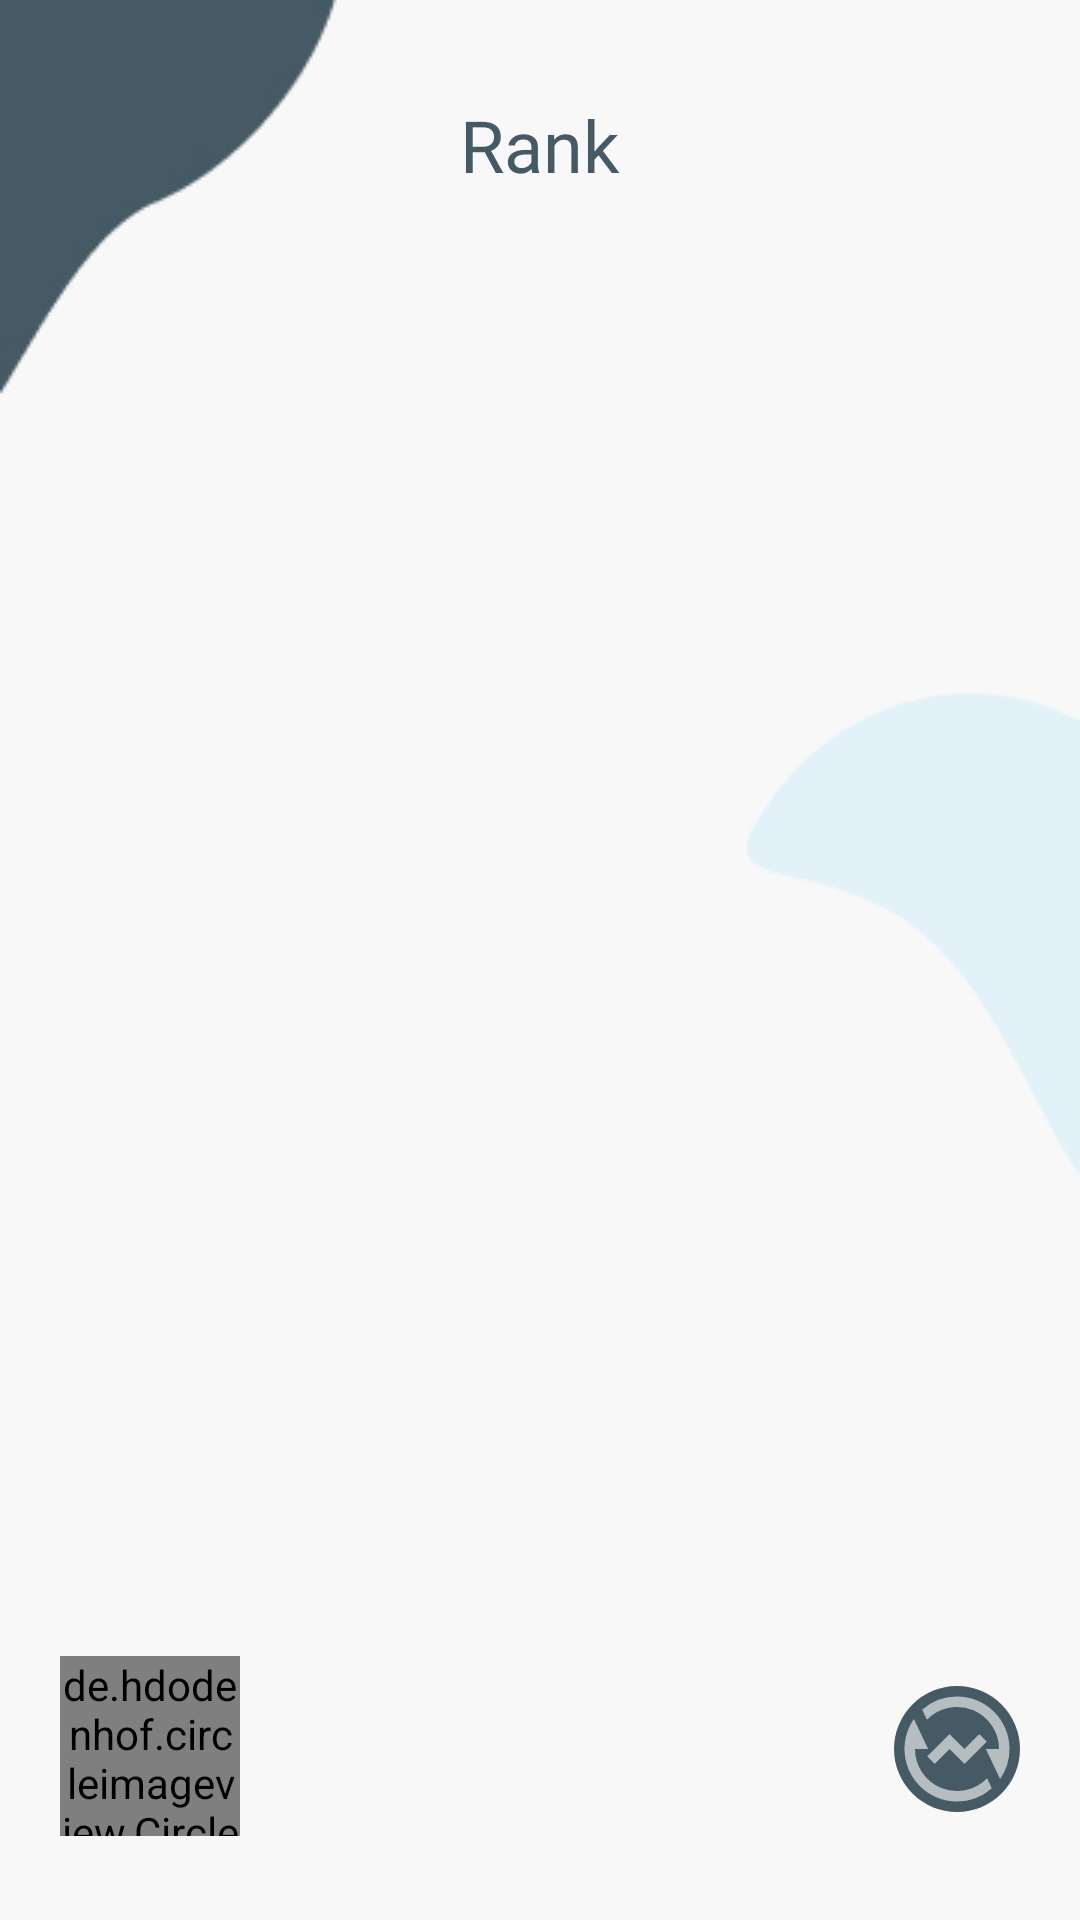

Icons on this 1080 × 1920 Android screen, each with the point to tap as (x,y):
exchange: (957,1749)
